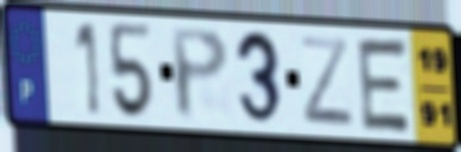1: (73, 20, 103, 118)
3: (233, 26, 287, 129)
5: (105, 19, 157, 121)
E: (355, 35, 414, 136)
P: (167, 25, 232, 124)
Z: (297, 32, 357, 130)
